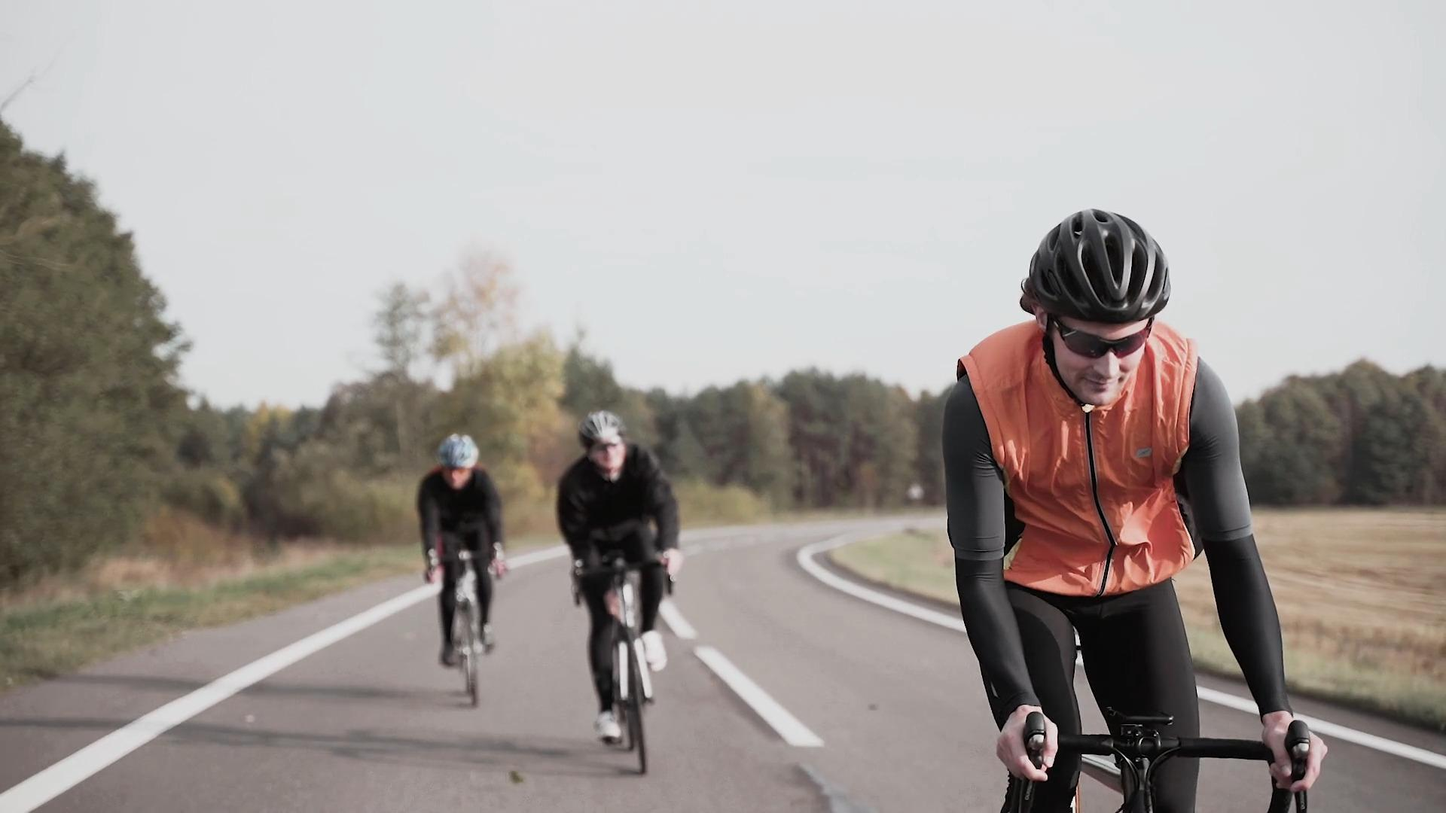bicyclist: (944, 205, 1329, 813), (555, 409, 682, 774), (415, 433, 509, 706)
helmet: (1019, 207, 1171, 406), (578, 409, 628, 473), (436, 433, 480, 490)
